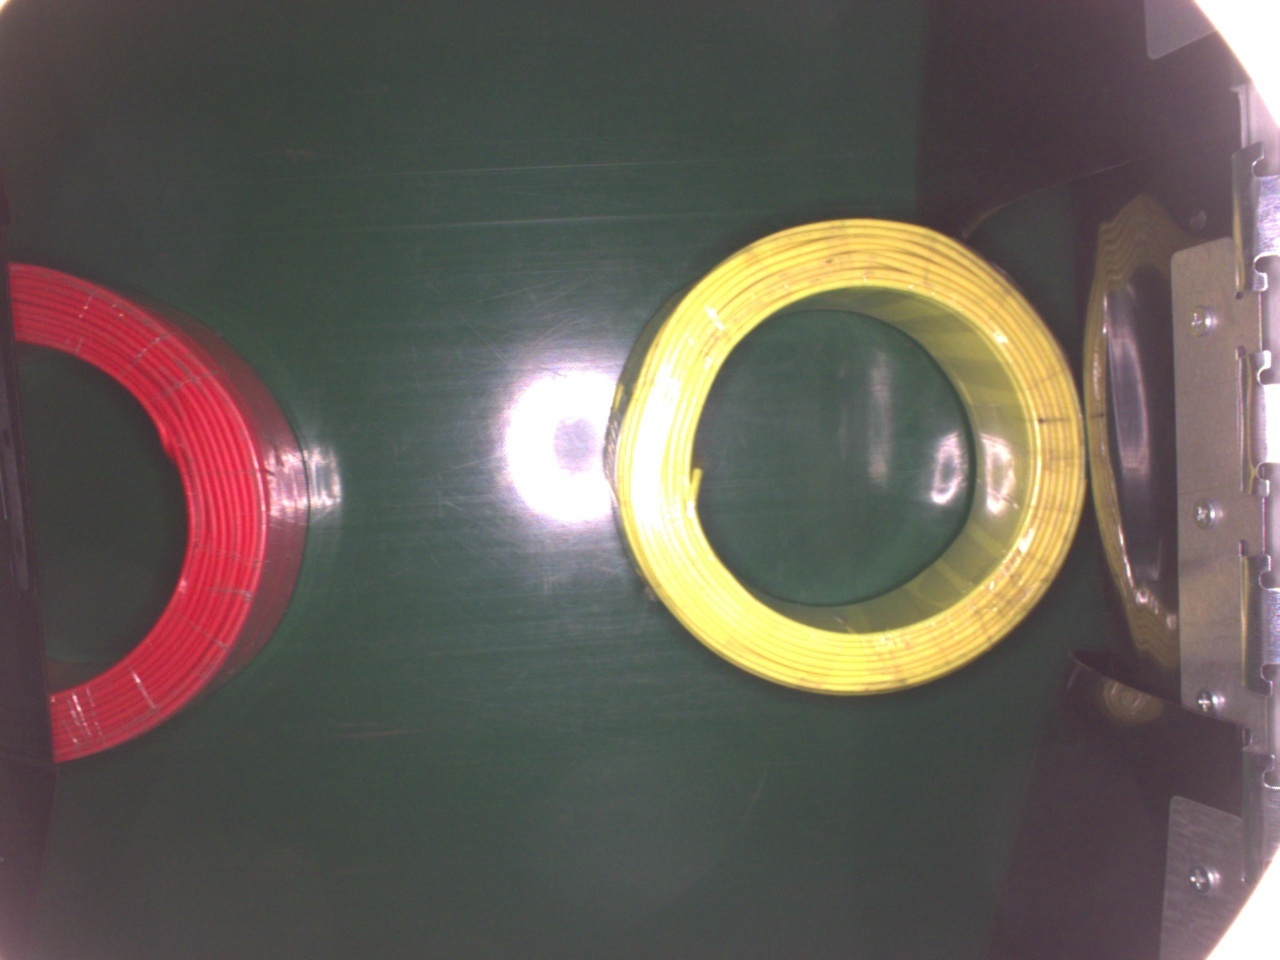red: (5, 257, 314, 761)
yellow: (600, 214, 1089, 697)
